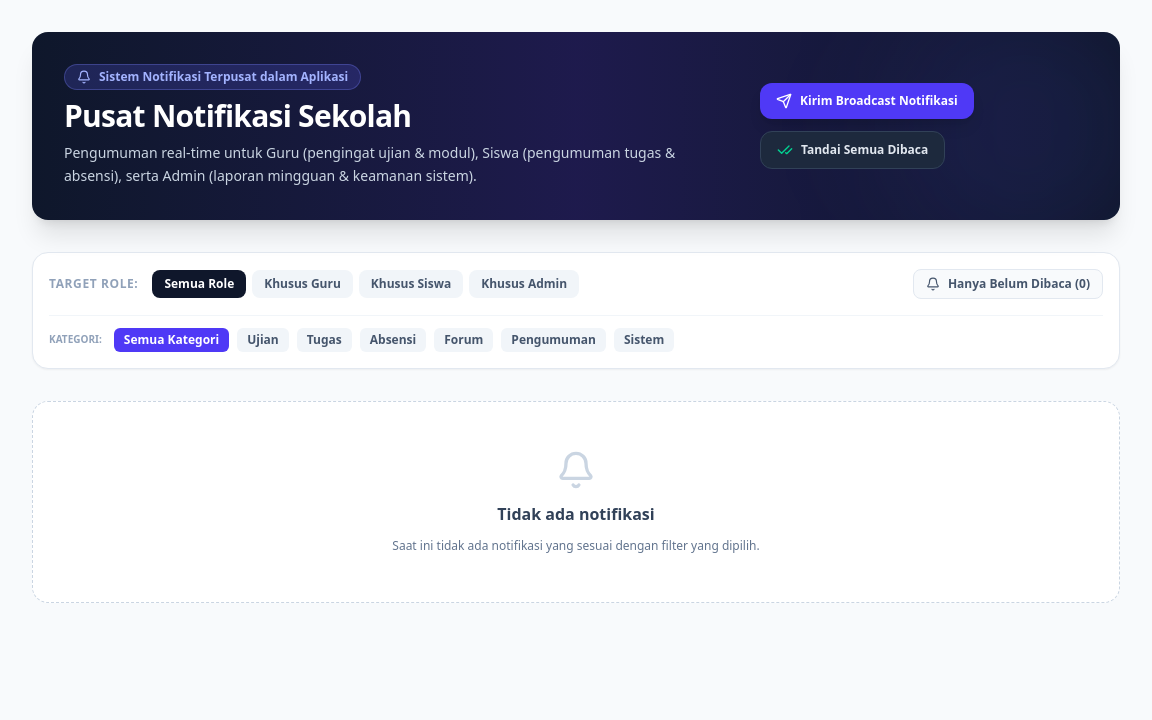
it: Forum and notification forms › offers an actual class target and labels broadcasts as web-only
Click the button "Kirim Broadcast Notifikasi". click: (867,101)
box: x1=760 y1=83 x2=974 y2=119
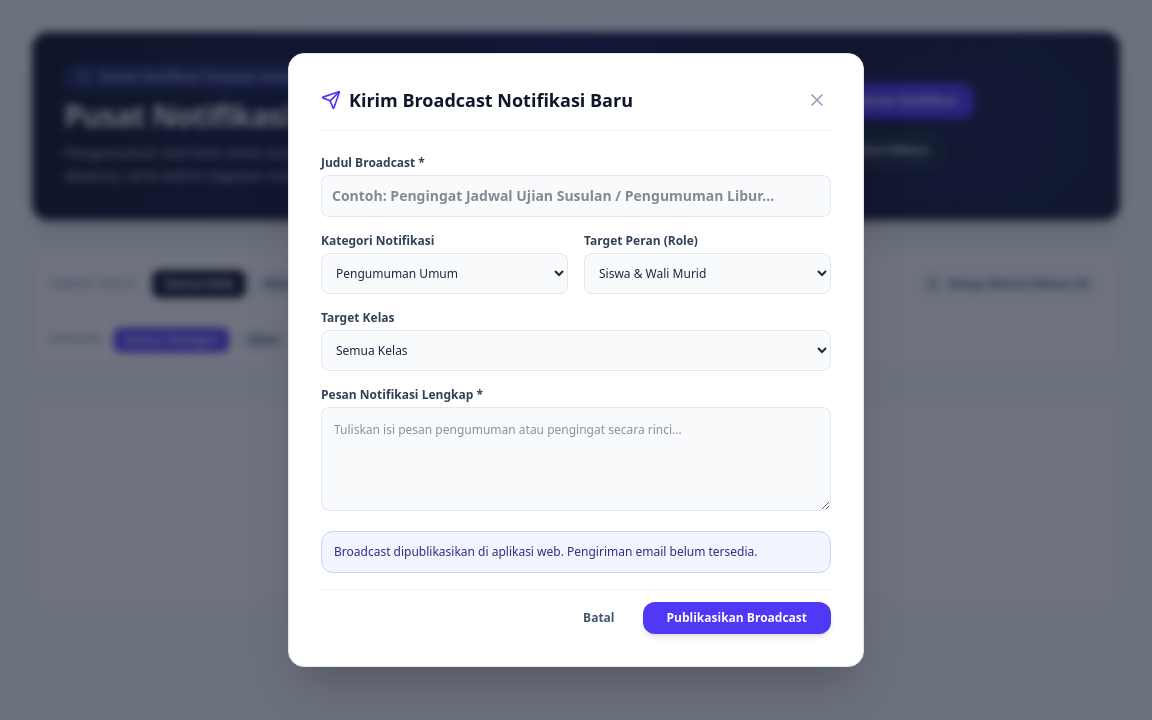
Expected: the dropdown labelled "Target Kelas" shows "Semua Kelas", x1=321 y1=330 x2=831 y2=371
Expected: the text "Pengiriman email belum tersedia" is shown, x1=334 y1=543 x2=758 y2=560
